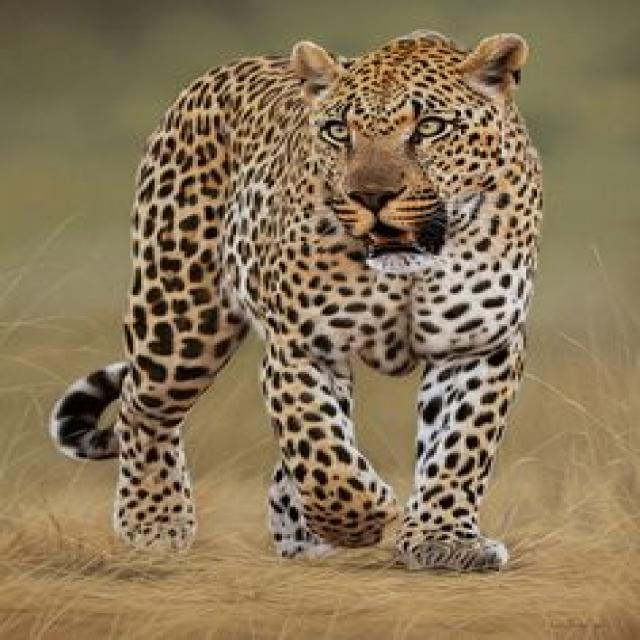Carnivorous: (46, 31, 545, 576)
